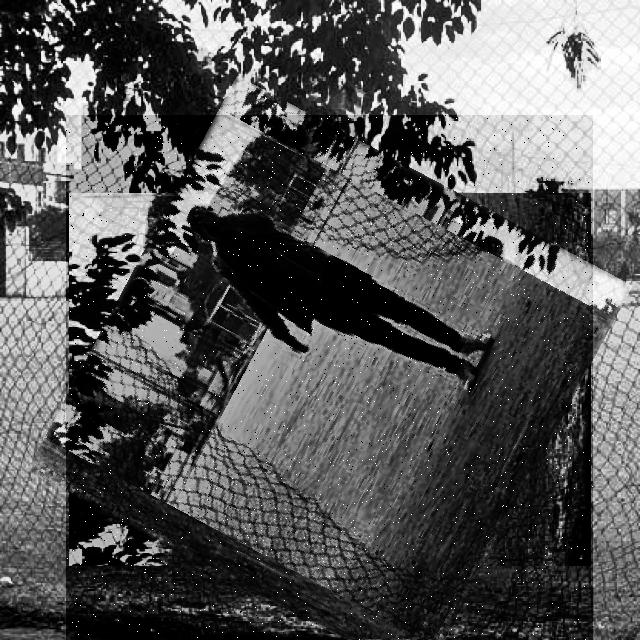anomaly-fence: (66, 115, 593, 640)
